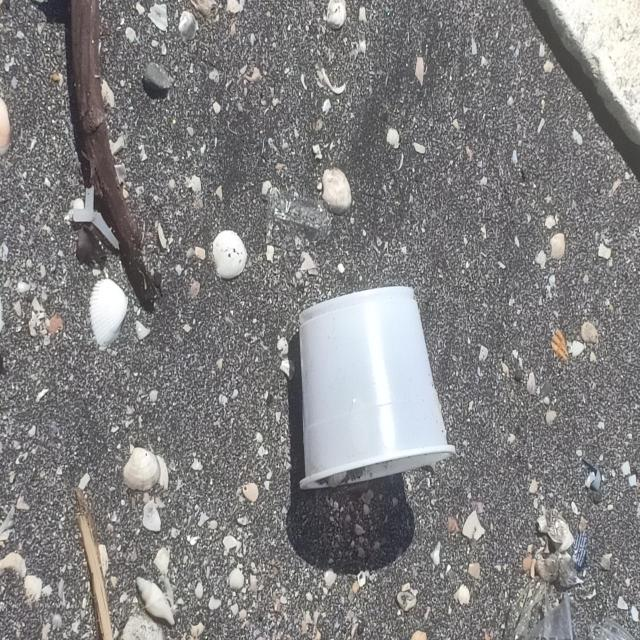plastic_waste: (297, 286, 459, 493)
